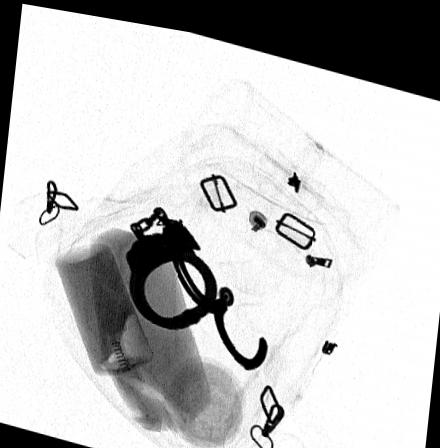HandCuffs: (123, 200, 267, 362)
